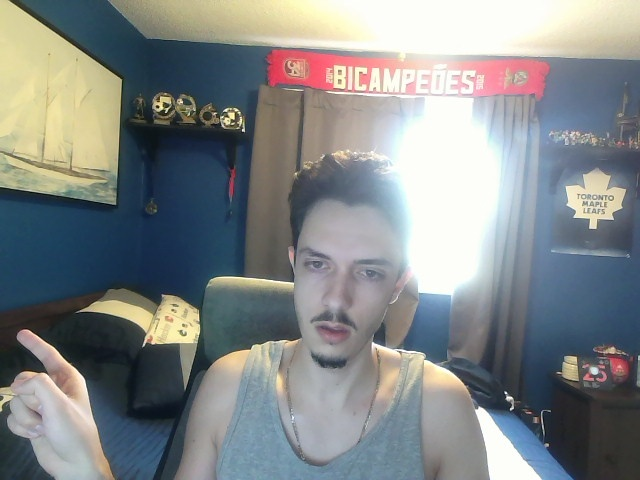Right: (4, 327, 120, 480)
